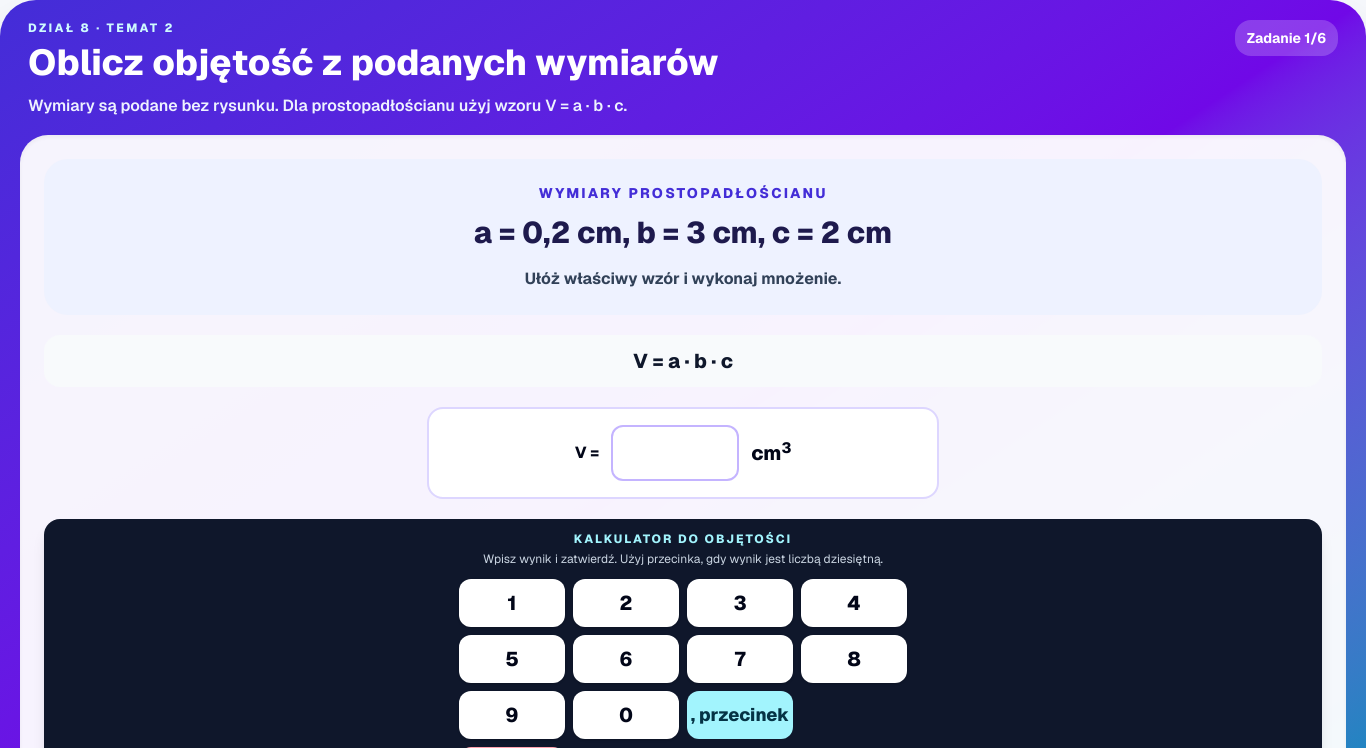
it: CuboidVolumeLab › udostępnia obliczenia z samych wymiarów, przecinkiem dziesiętnym i bez rysunku
Expected: the text "Zadanie 1/6" is shown, [1235,20,1338,56]
Expected: the text "a = 0,2 cm, b = 3 cm, c = 2 cm" is shown, [474,213,892,252]
Click the button "1" at (512, 603), box [459,579,565,627]
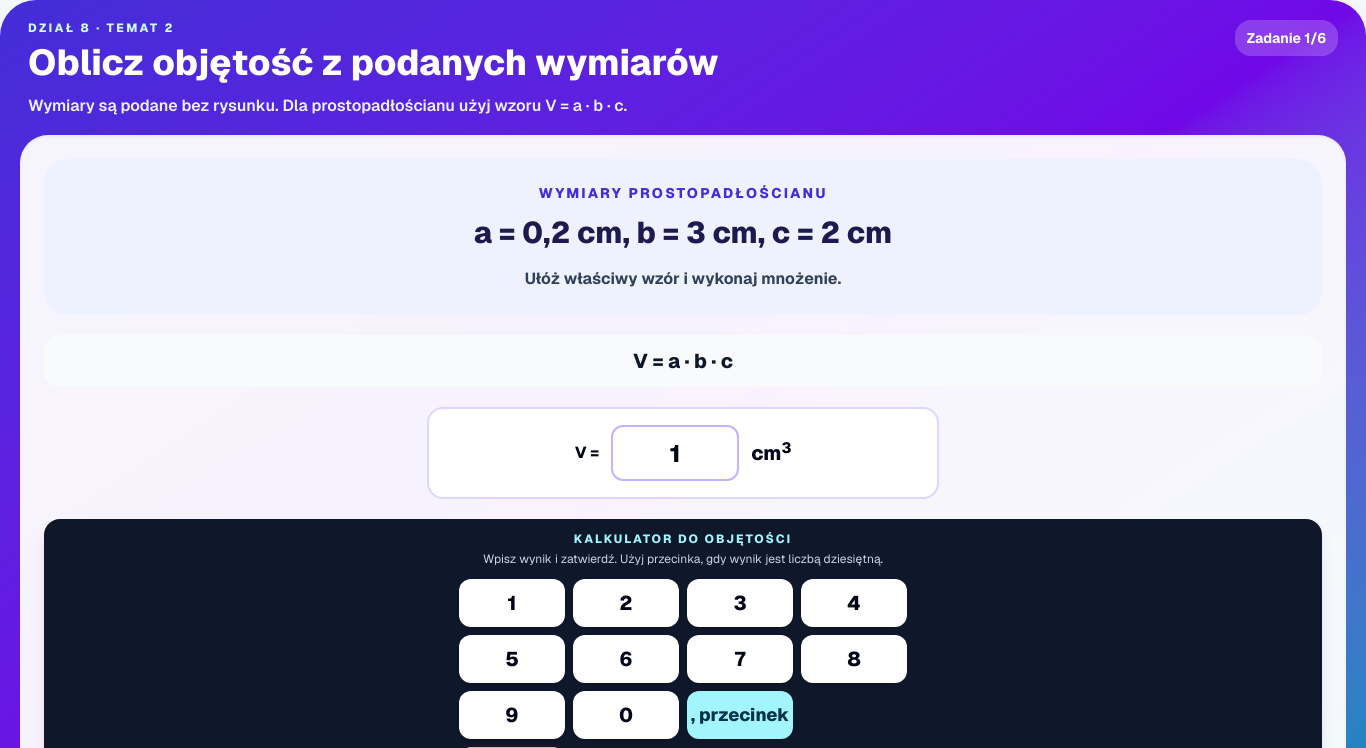
Click the button ", przecinek" at (740, 715), box [687,691,793,739]
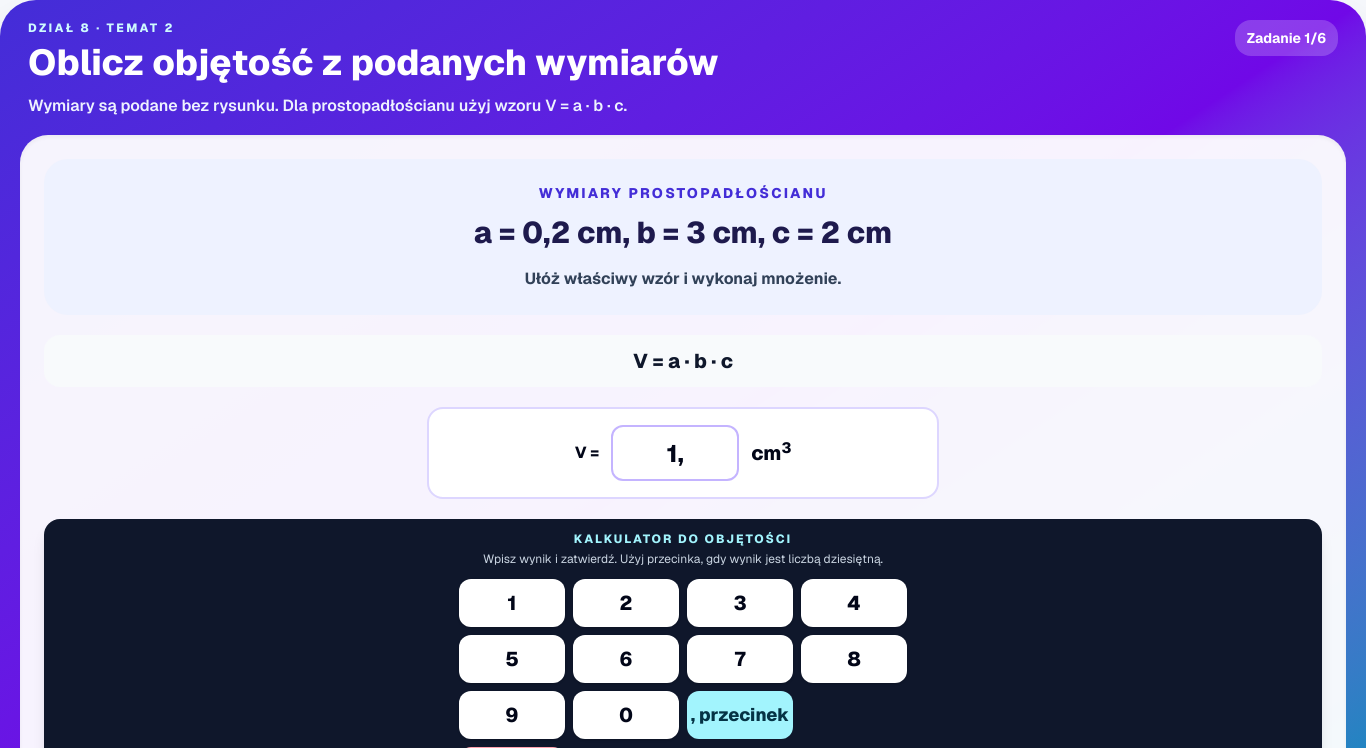
Click the button "2" at (626, 603), box [573,579,679,627]
(page scrolled)
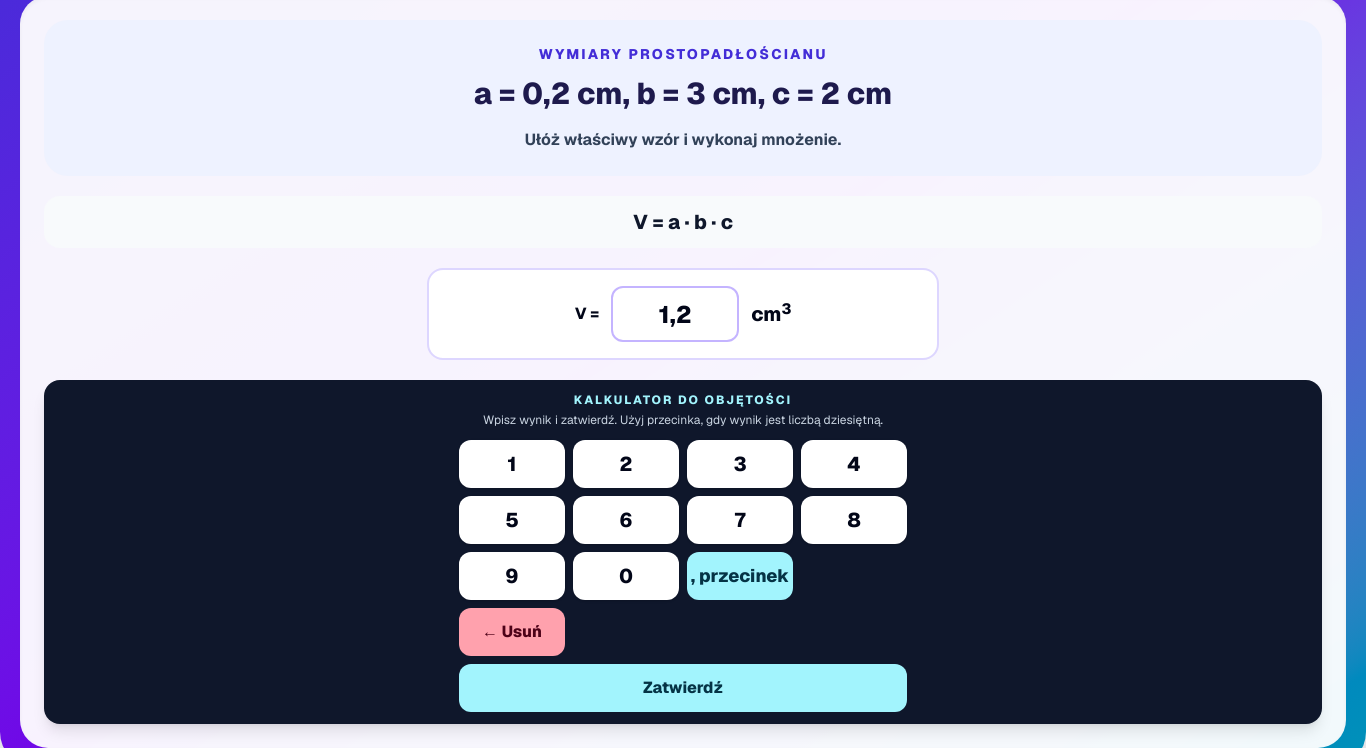
Click the button "Zatwierdź" at (683, 688), box [459,664,907,712]
(page scrolled)
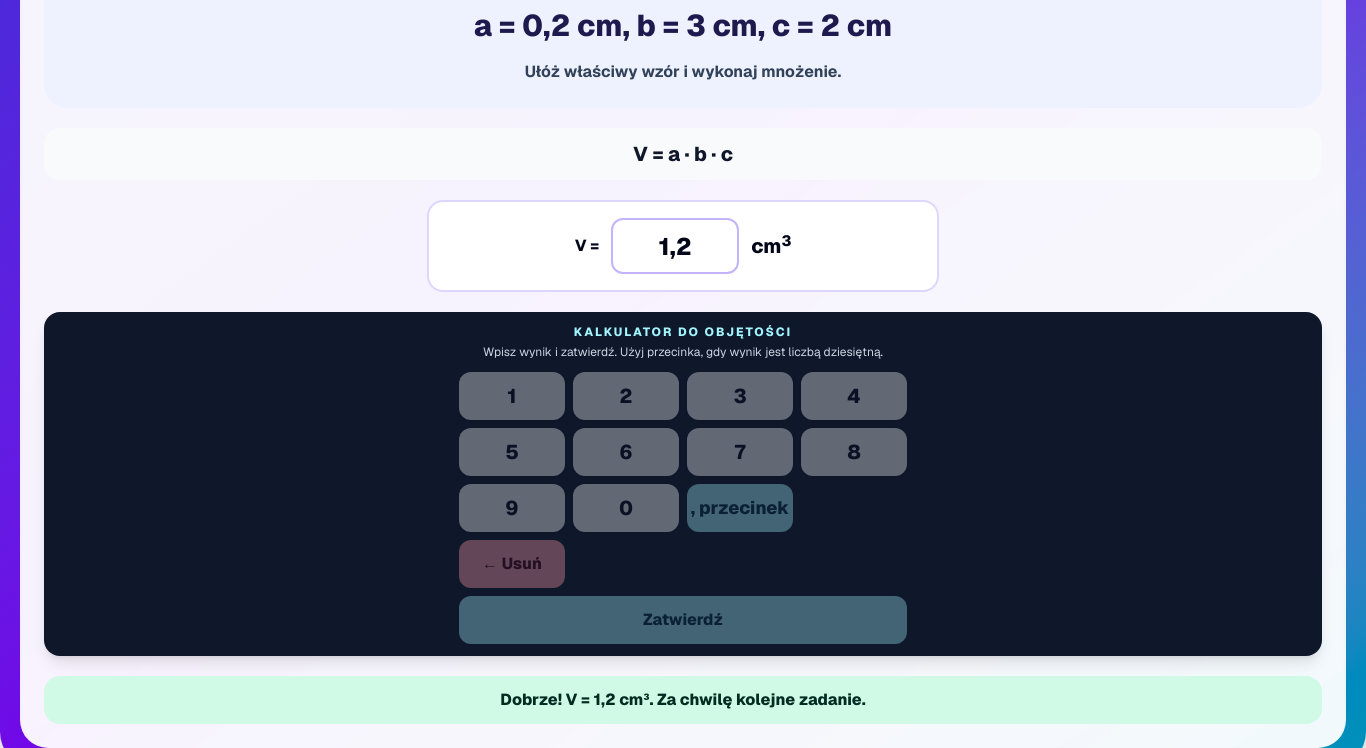
Expected: the message shows "1,2 cm³", [500,689,866,710]
